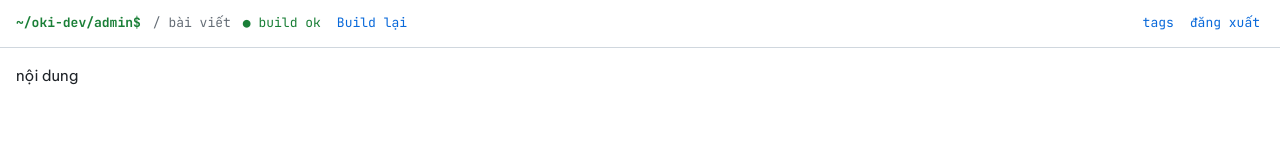
Test case: Layout › shows the build state and rebuilds on request
The width and height of the screenshot is (1280, 160).
Expected: the text "● build ok" is shown, [243,13,321,34]
Click the button "Build lại". click: (372, 24)
box: [333,13,411,34]
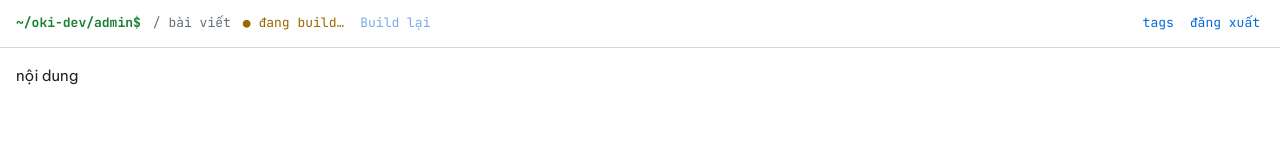
Now the text "● đang build…" is shown, box [243,13,344,34]
